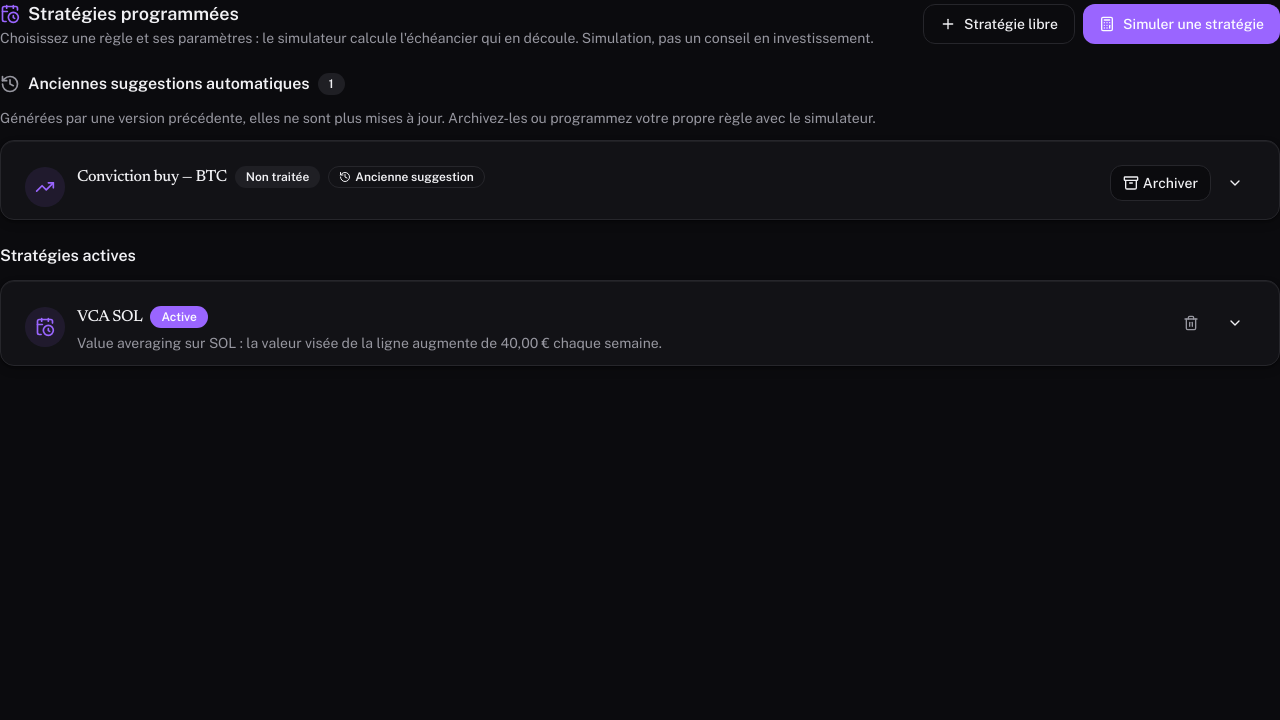
Stratégies programmées › montre l’erreur de validation renvoyée par le serveur
Expected: the heading "VCA SOL" is shown, [77, 305, 142, 329]
Step 1. Click the button "Simuler une stratégie" → point(1182, 24), box [1083, 4, 1279, 44]
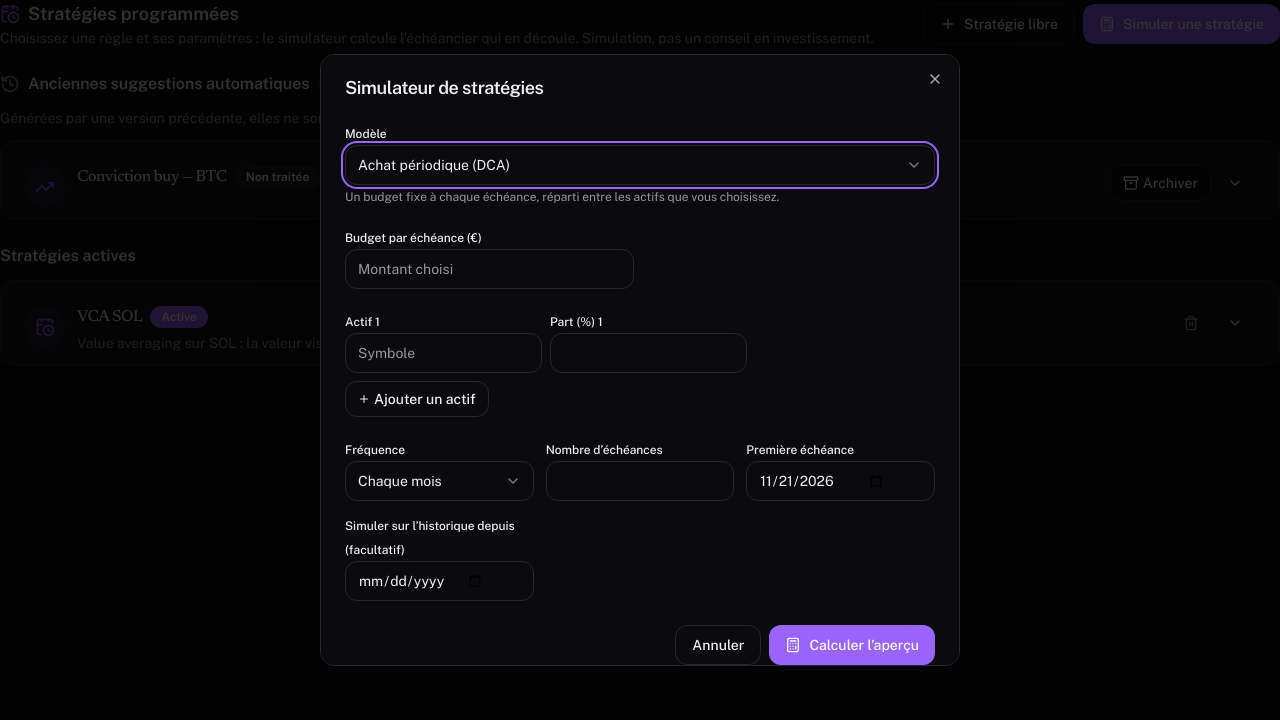
Step 2. Click the button "Calculer l’aperçu" → point(852, 645), box [769, 625, 935, 665]
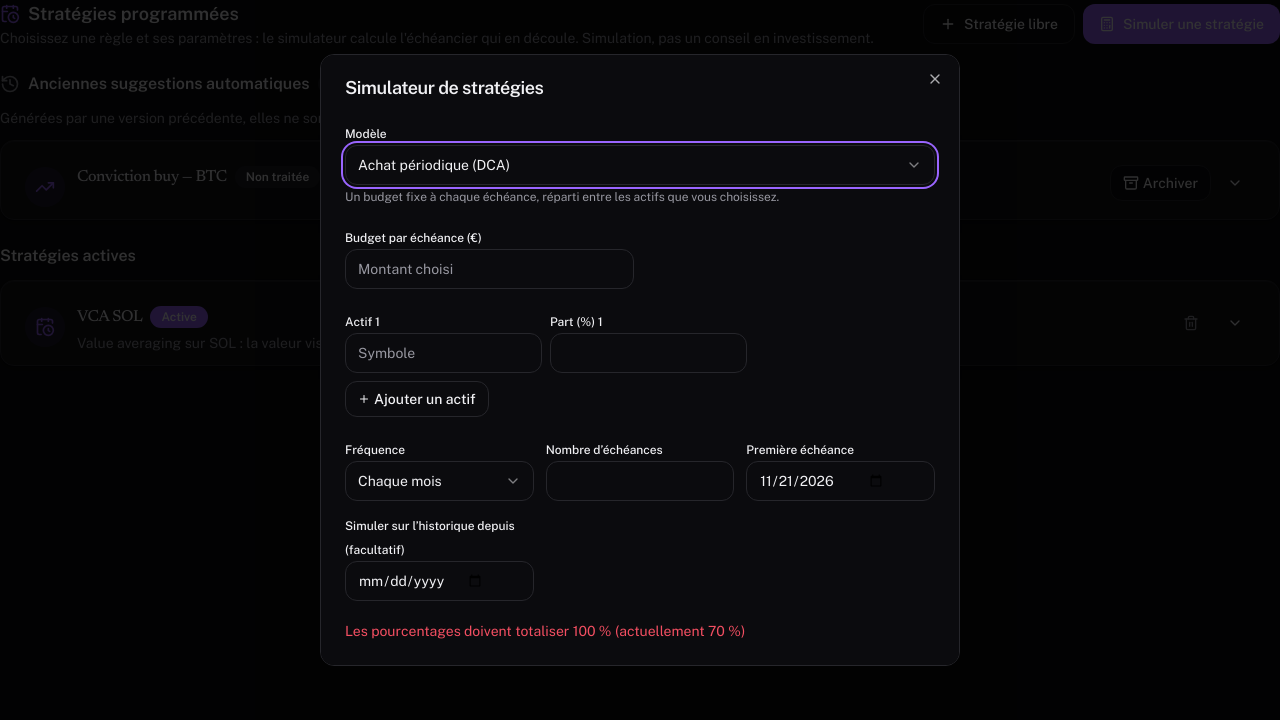
Now the message reads "Les pourcentages doivent totaliser 100 % (actuellement 70 %)", box [345, 623, 745, 639]
